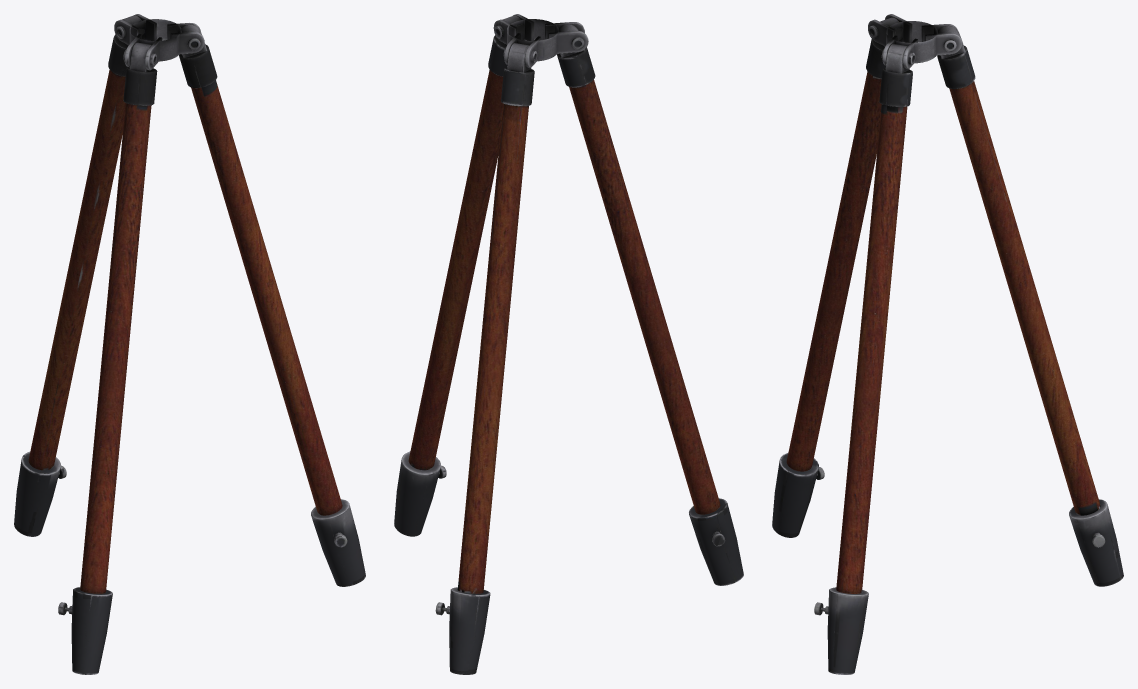
The model's file is Telescope_down.fbx.
3 views of the same model, side by side, from view 1: azimuth 30°, elevation 25°; view 2: azimuth 150°, elevation 25°; view 3: azimuth 270°, elevation 25° (orthographic).
Parts seen in each view (by area): view 1: All003; view 2: All003; view 3: All003.
Part boxes in pixels (x1,y1,x2,y2): All003: (14,14,365,674); All003: (394,14,743,674); All003: (772,14,1123,674).
Size of the model in its own units: 126 by 215 by 121.
Materials: 1 (1 with a texture image).
